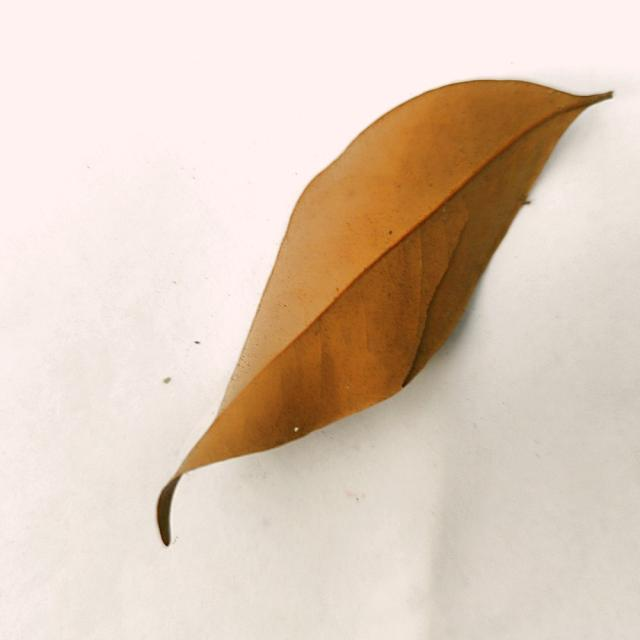Dry_Leaf-Lychee: (157, 79, 614, 545)
